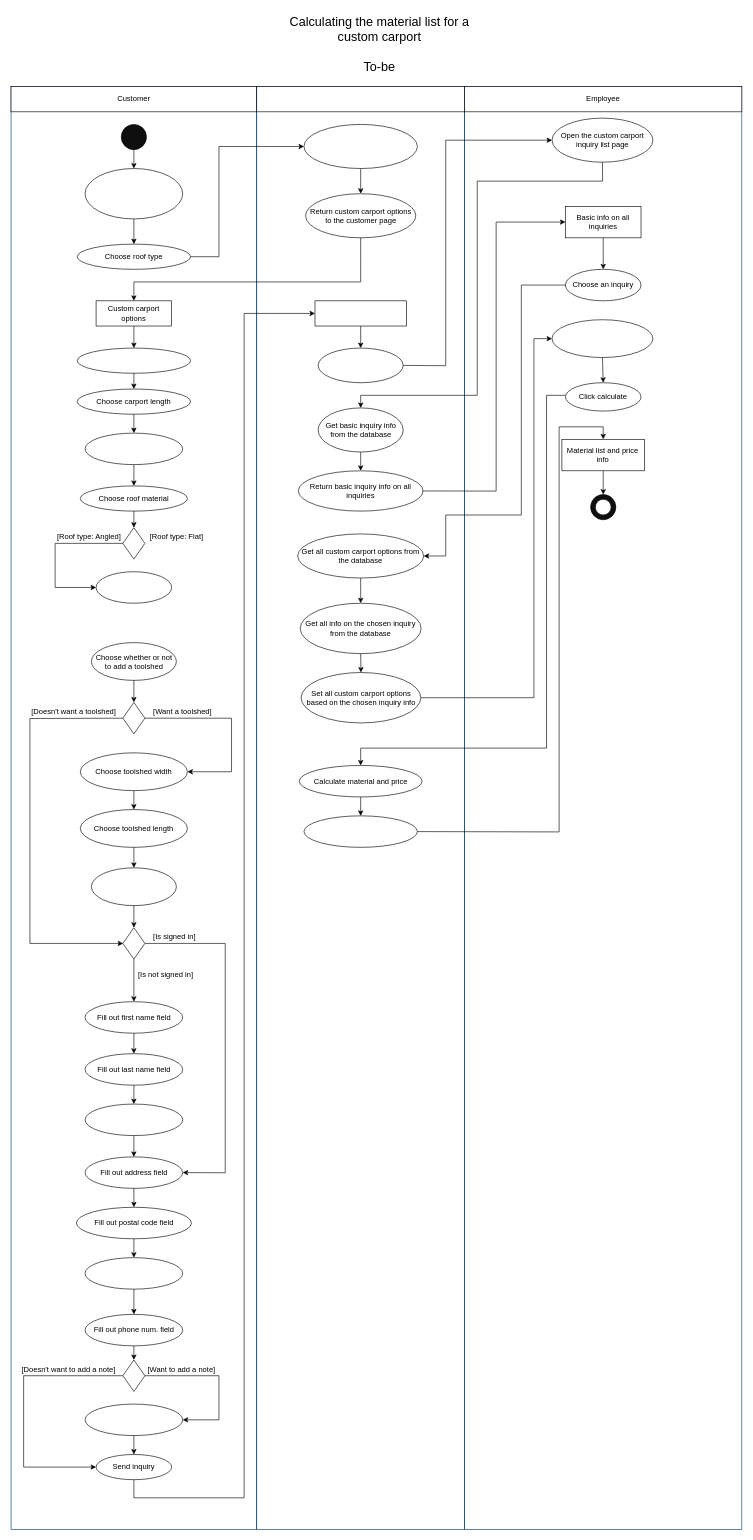
Some shapes in this 753 by 1540 pixel diagram are drawn without their labels. Here are the shapes that lost their labels. From the top down, the box of each, then its label:
(256, 86, 465, 112): IT-System
(303, 124, 417, 169): Get all the custom carport options from the database
(84, 168, 183, 219): Find the custom carport section from the Fog website
(314, 300, 406, 326): Custom carport inquiry
(551, 319, 653, 358): Review inquiry info
(77, 347, 191, 373): Choose carport width
(318, 347, 403, 383): Save inquiry to the database
(84, 432, 183, 465): Choose carport height
(95, 571, 172, 603): Choose roof angle
(303, 815, 417, 847): Return material and price info
(91, 867, 176, 906): Choose toolshed cladding material
(84, 1103, 183, 1136): Fill out email field
(84, 1257, 183, 1289): Fill out city field
(84, 1403, 183, 1436): Fill out note field
